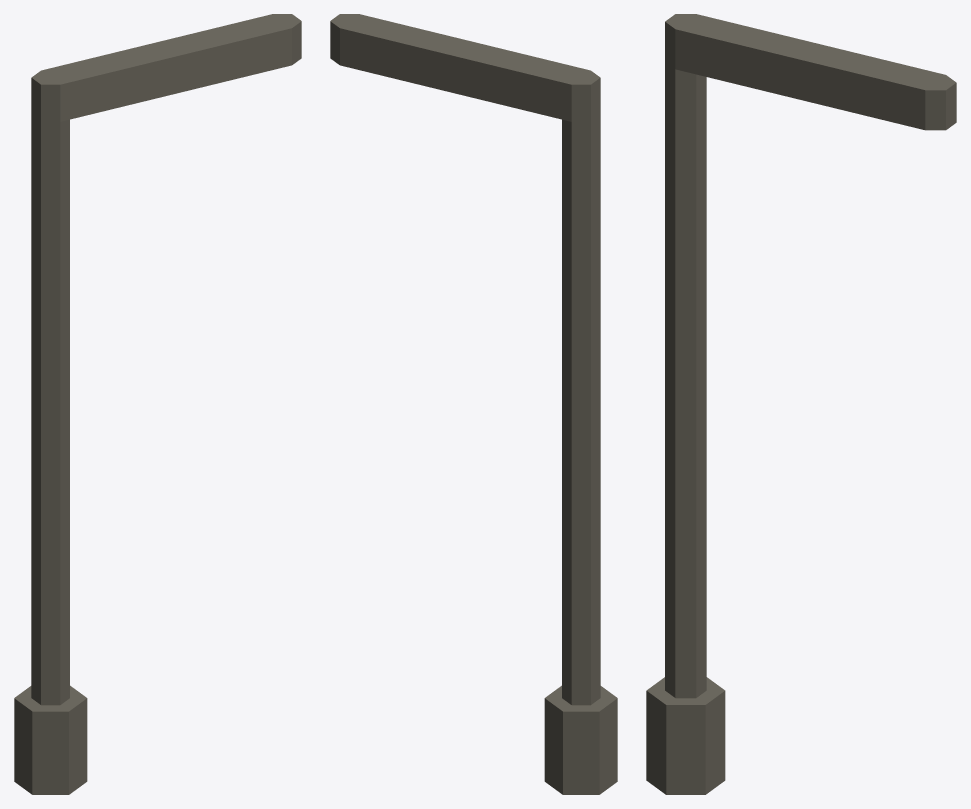
Rendered from streelight.fbx.
3 renders of one model, left to right at view 1: azimuth 30°, elevation 25°; view 2: azimuth 150°, elevation 25°; view 3: azimuth 330°, elevation 25°, orthographic. The views are drawn at different scales.
Visible parts, largest first — view 1: Cylinder; view 2: Cylinder; view 3: Cylinder.
Part boxes in pixels (<box>): Cylinder: <box>14,14,301,794</box>; Cylinder: <box>330,14,617,794</box>; Cylinder: <box>646,14,956,794</box>.
Size of the model in its own units: 208 by 512 by 48.23.
